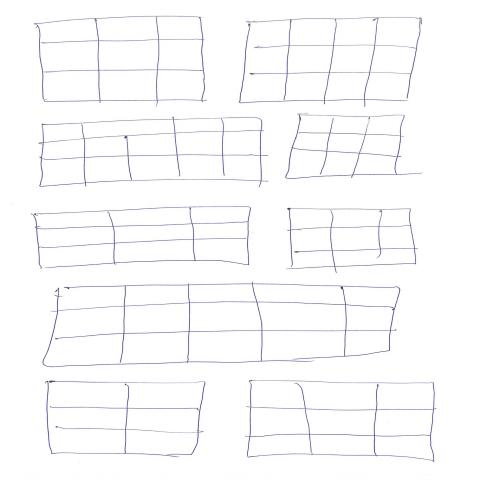Table: (40, 282, 400, 368), (237, 16, 422, 104), (37, 116, 263, 187), (245, 379, 436, 463), (33, 14, 207, 103), (30, 205, 251, 269), (44, 379, 207, 456), (286, 206, 417, 270), (284, 112, 406, 179)
